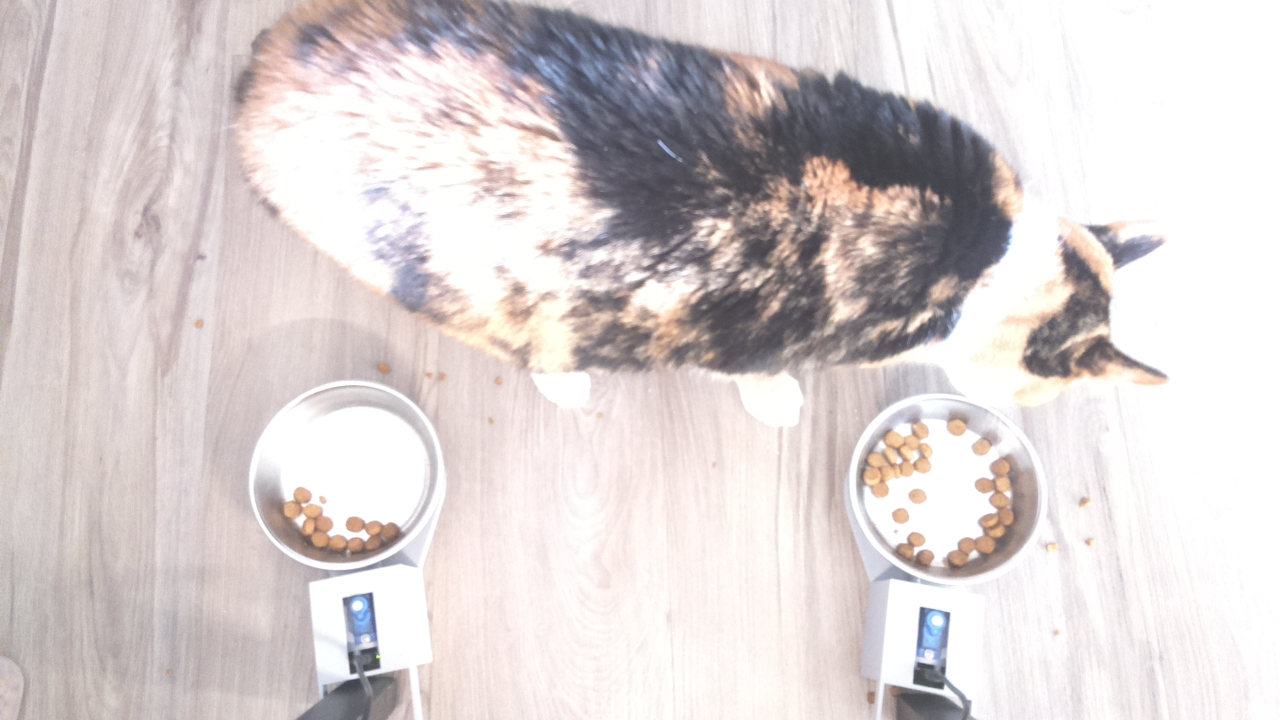bella: (904, 128, 1173, 418)
open_bowl: (245, 376, 465, 566), (845, 387, 1055, 586)
